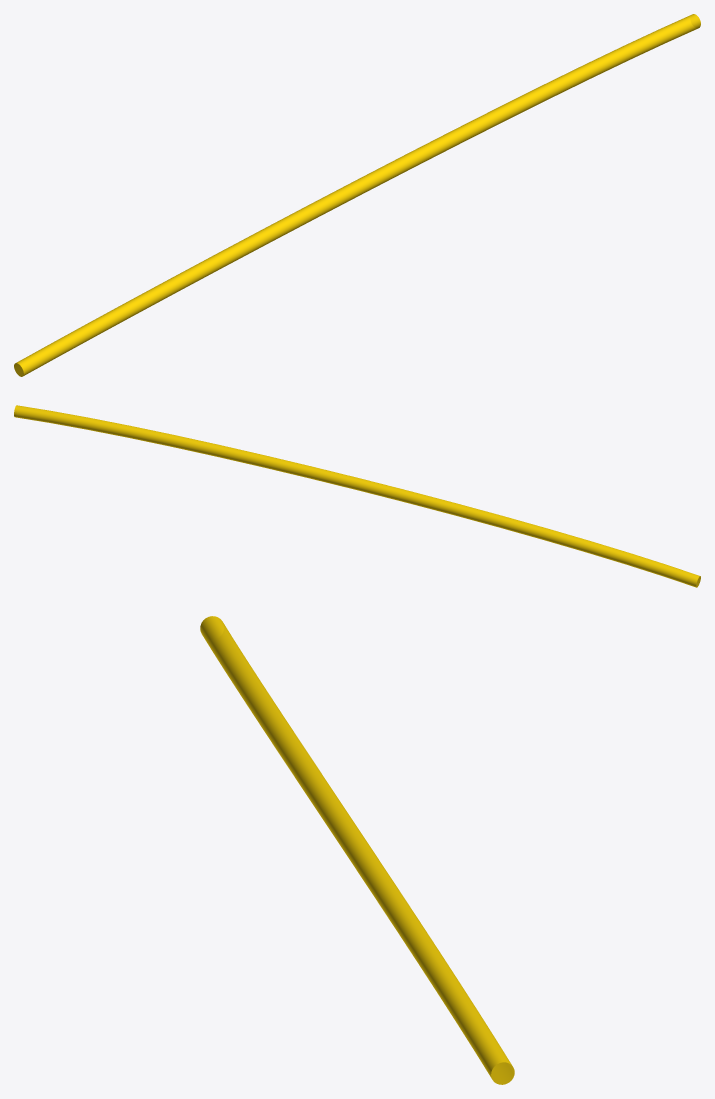
Rendered from Event_420107950_track_49.fbx.
3 renders of one model, top to bottom at view 1: azimuth 30°, elevation 25°; view 2: azimuth 150°, elevation 25°; view 3: azimuth 270°, elevation 25°, orthographic. The views are drawn at different scales.
Parts seen in each view (by area): view 1: Model; view 2: Model; view 3: Model.
Part boxes in pixels (x1=…): Model: x1=14, y1=14, x2=700, y2=376; Model: x1=14, y1=405, x2=700, y2=587; Model: x1=200, y1=616, x2=514, y2=1084.
Bounding box in the file's own units: 2.32 × 0.3105 × 0.5153.
